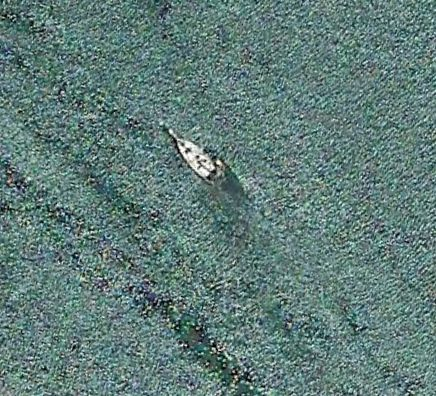boat: (166, 128, 228, 188)
